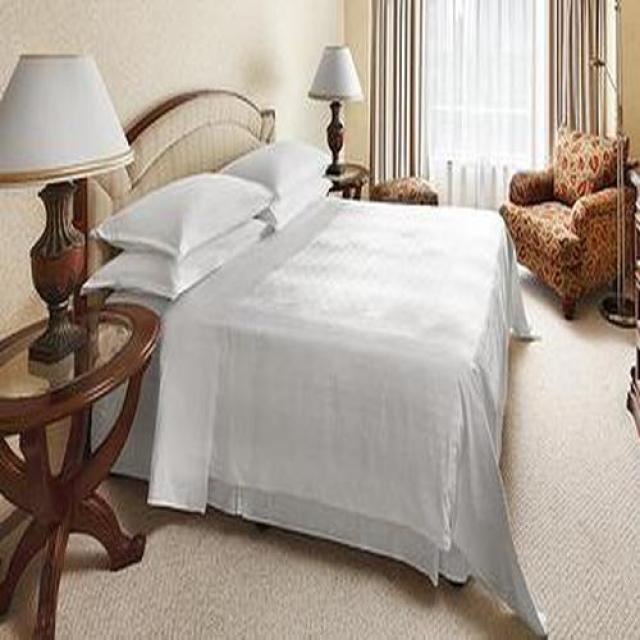bed: (83, 91, 549, 640)
